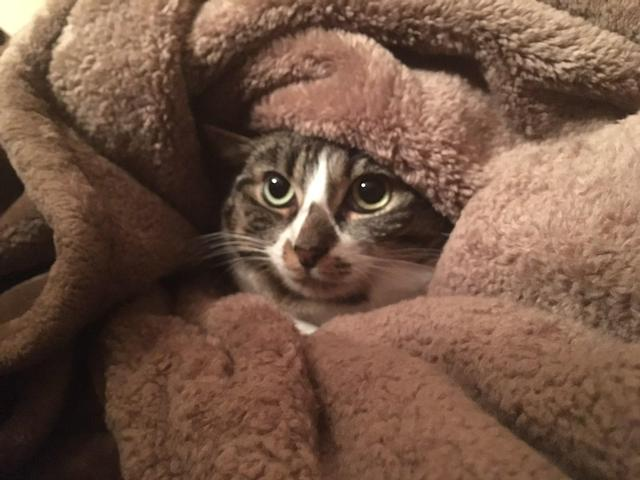playdoh: (200, 120, 457, 335)
